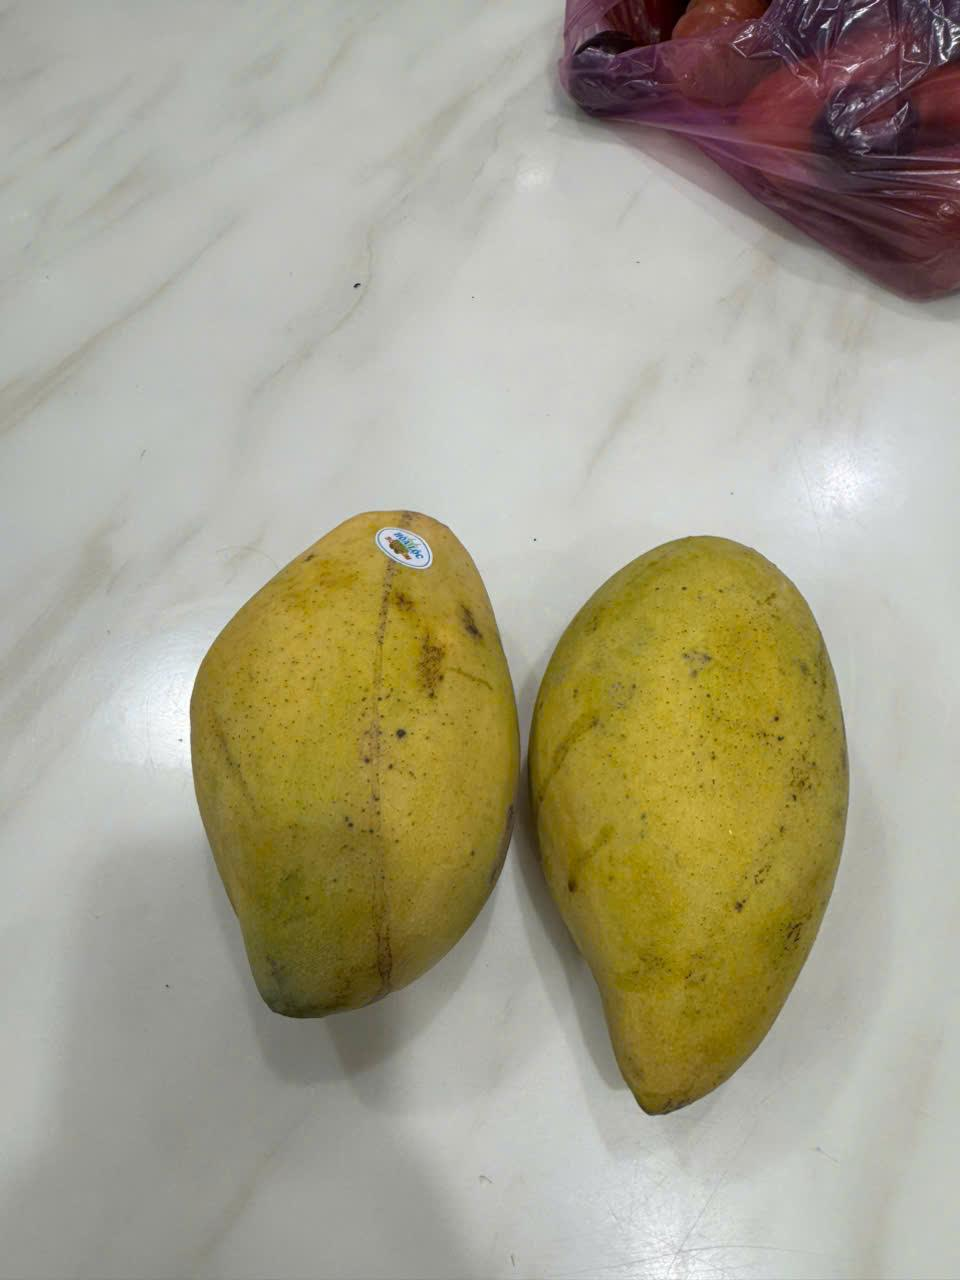mango: (514, 516, 880, 1151), (166, 500, 518, 1036)
